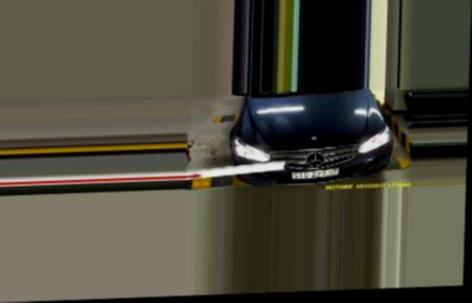License_Plate: (289, 165, 339, 181)
